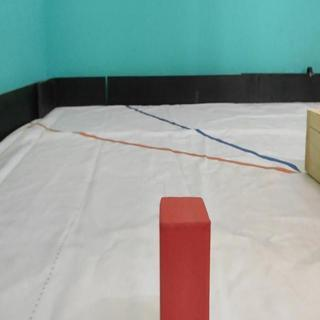redbox: (159, 197, 211, 320)
